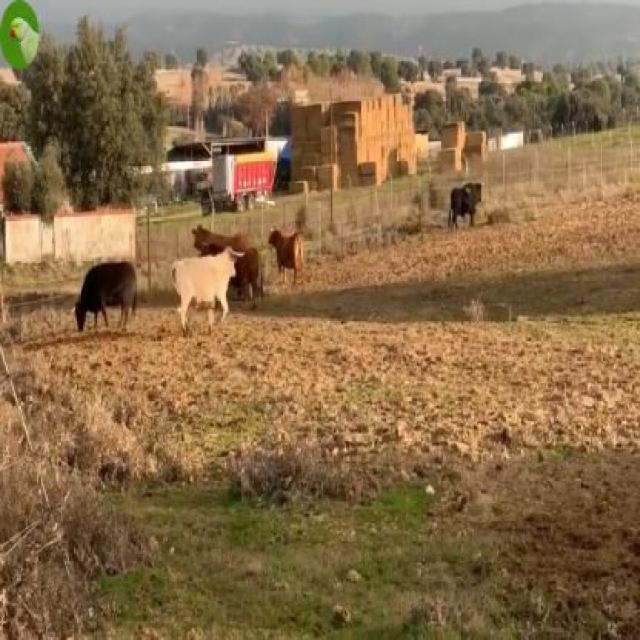Cow: (172, 244, 245, 336), (71, 263, 138, 337)
